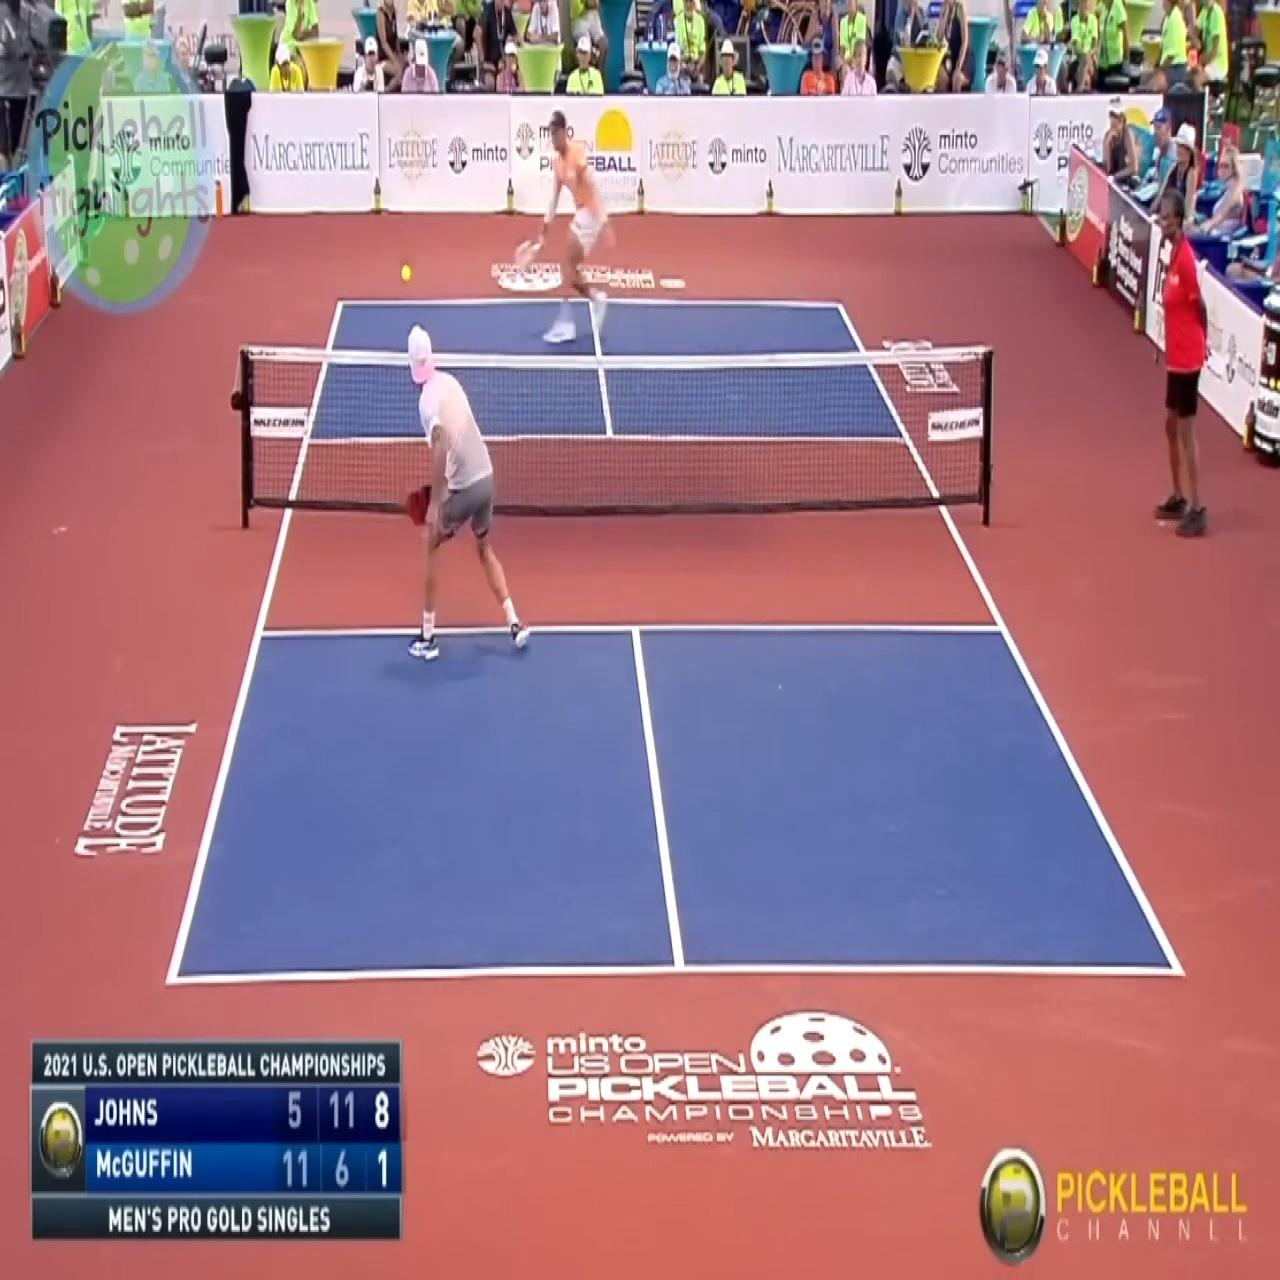pickleball: (401, 263, 411, 281)
